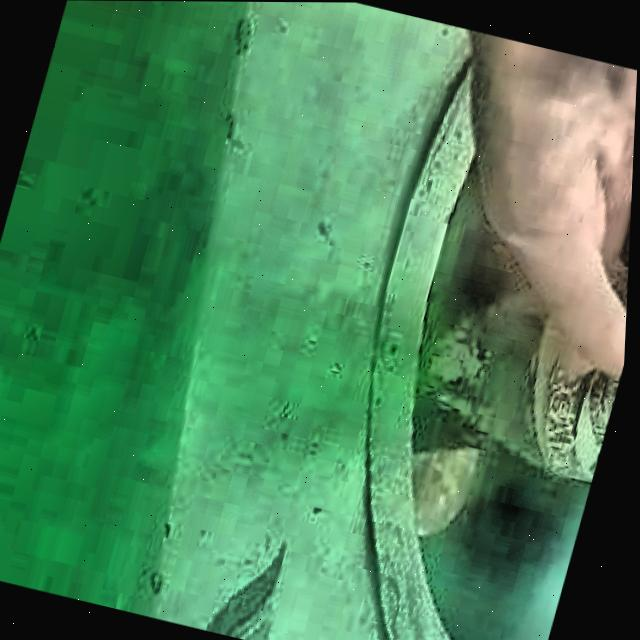glass: (417, 285, 624, 479)
